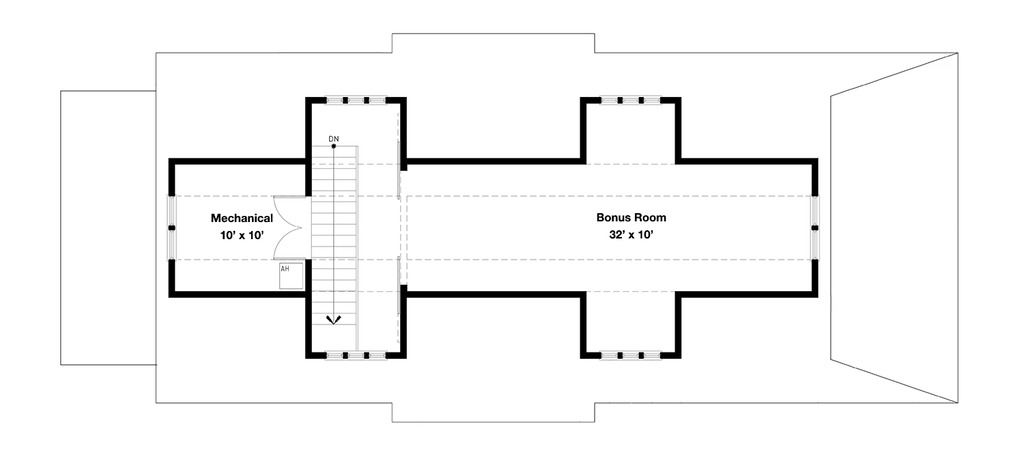door: (270, 192, 313, 260)
stairs: (310, 134, 360, 331)
windows: (597, 90, 669, 109), (163, 191, 178, 265), (321, 93, 387, 109), (808, 190, 822, 263), (597, 349, 662, 363), (324, 350, 389, 364)
